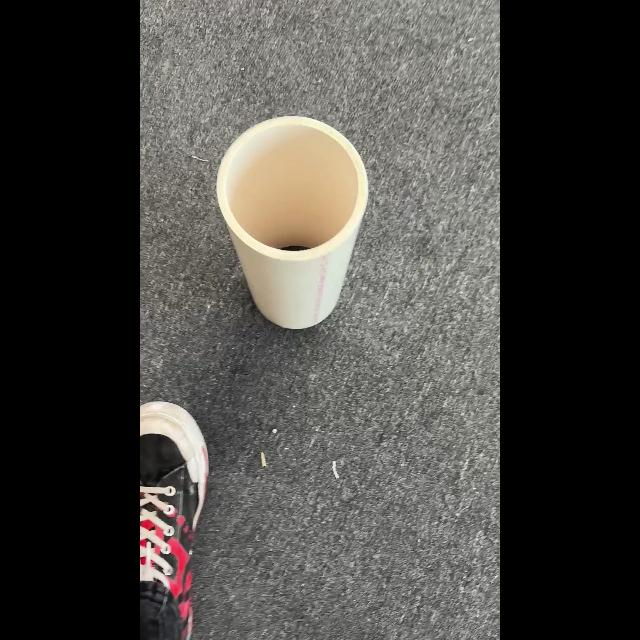CORAL: (215, 114, 369, 330)
